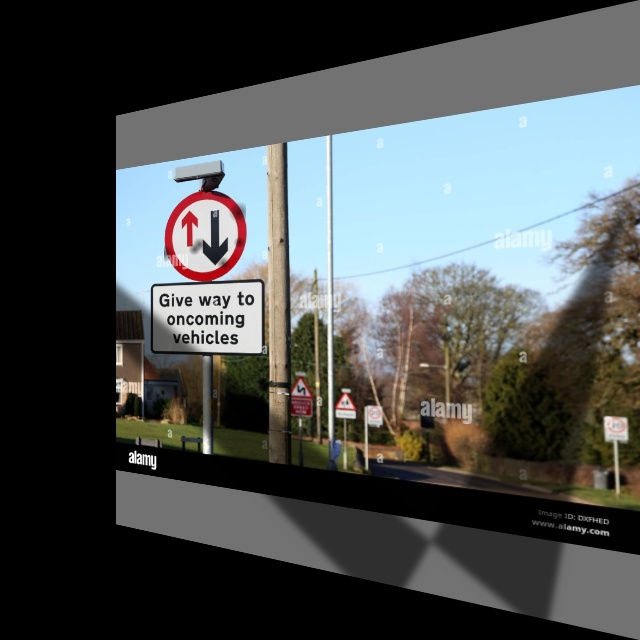Priority_for_Oncoming_Traffic: (164, 186, 246, 282)
